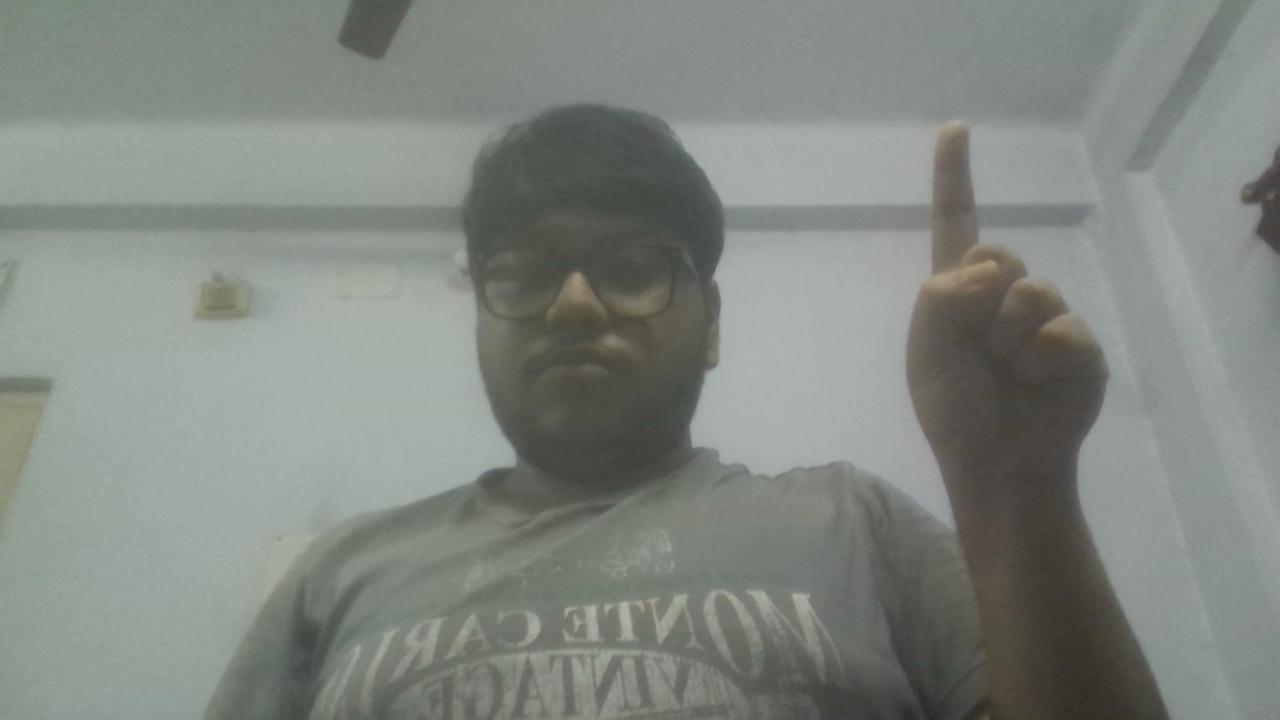Gesture1: (895, 103, 1120, 487)
